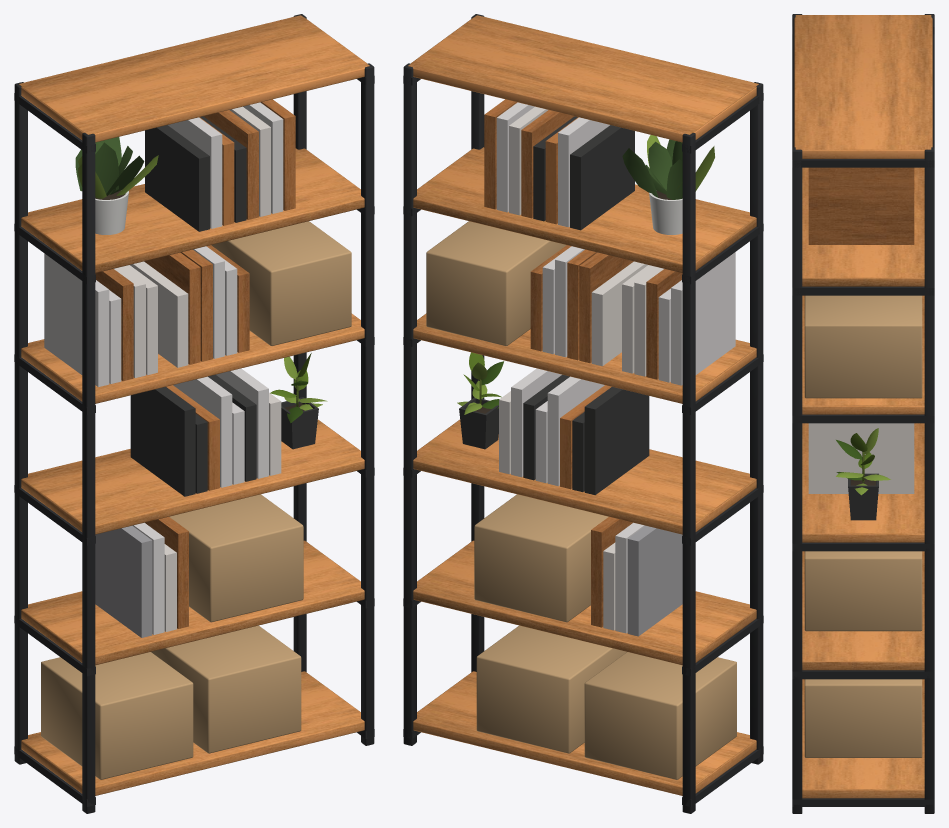
Rendered from storage.divider-shelf.glb.
The picture shows the model from 3 angles, left to right: view 1: azimuth 30°, elevation 25°; view 2: azimuth 150°, elevation 25°; view 3: azimuth 270°, elevation 25°; orthographic projection. The views are drawn at different scales.
Visible parts, largest first — view 1: storage.divider-shelf.001; view 2: storage.divider-shelf.001; view 3: storage.divider-shelf.001.
Part boxes in pixels (x1,y1,x2,y2): storage.divider-shelf.001: (14, 14, 374, 813); storage.divider-shelf.001: (403, 14, 763, 813); storage.divider-shelf.001: (792, 14, 934, 813).
Bounding box in the file's own units: 0.8 × 1.8 × 0.35.
15 materials, 2 textured.
